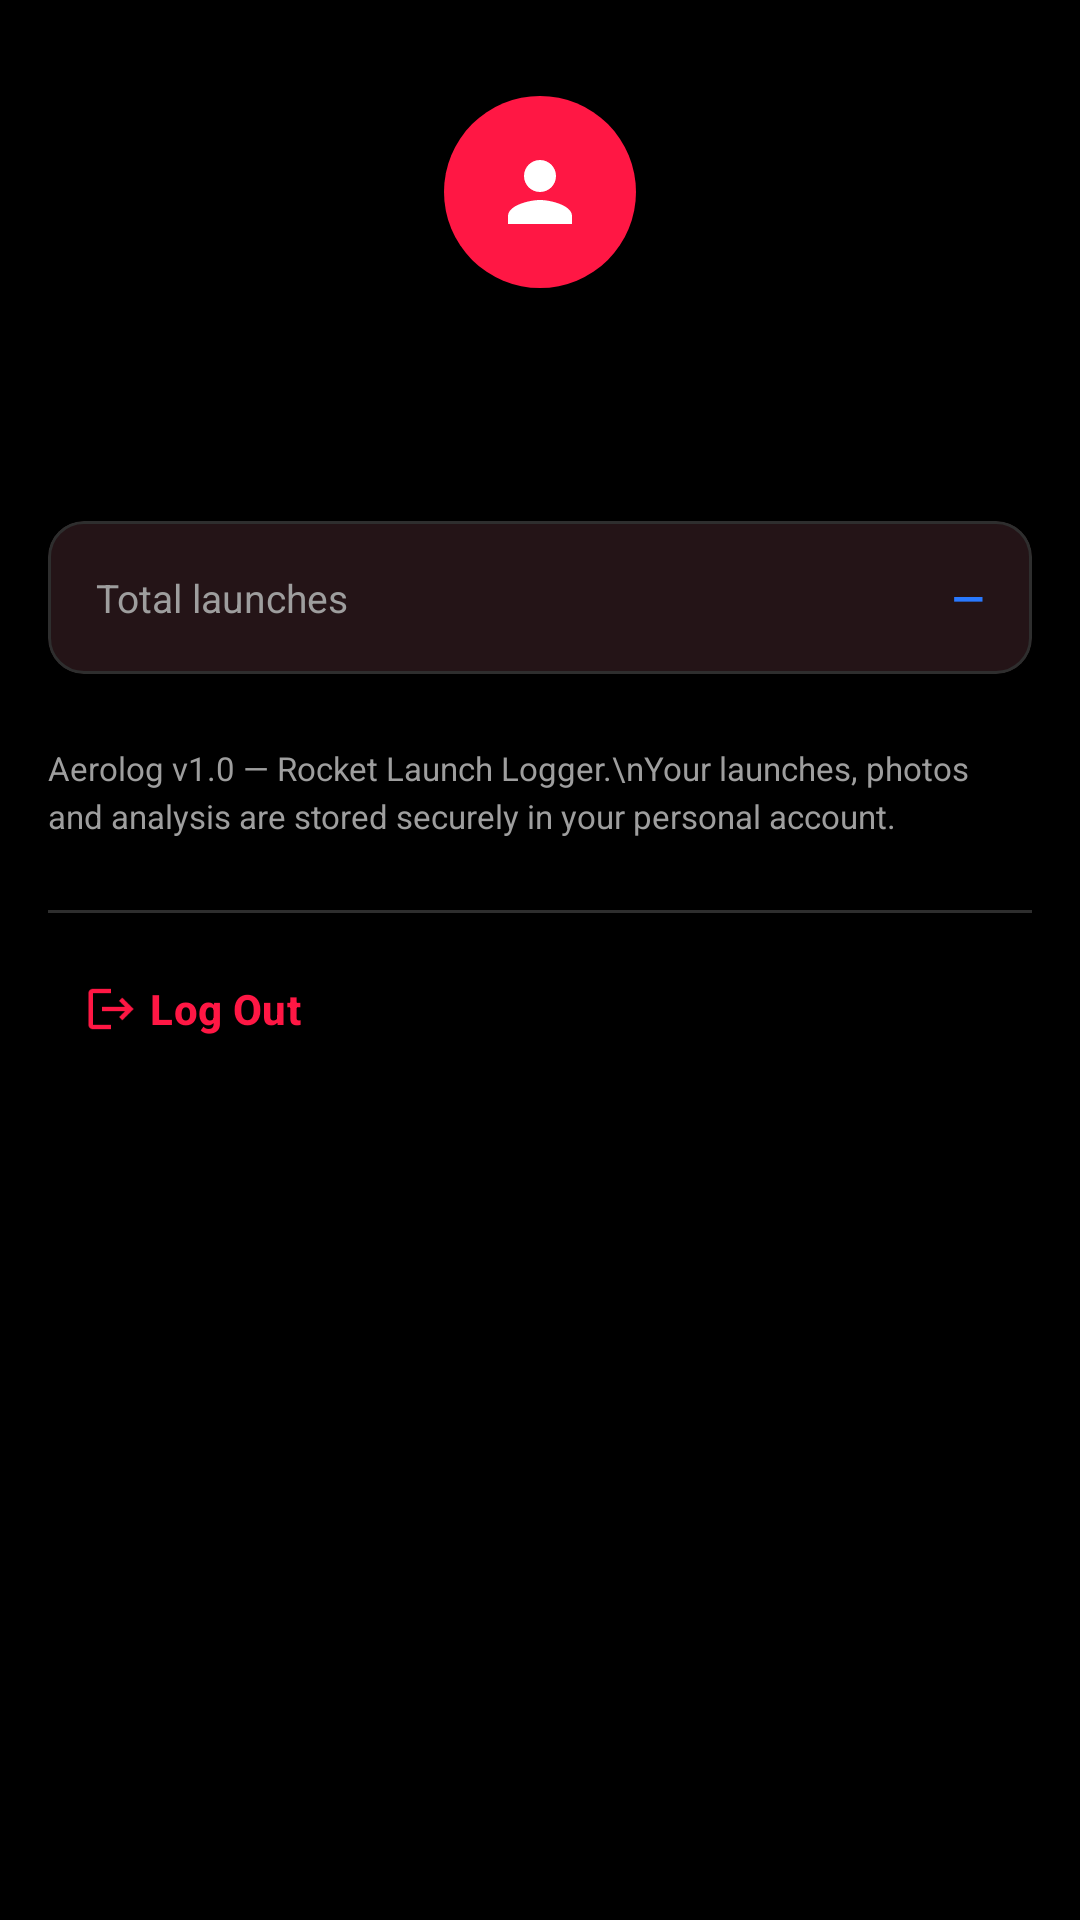

Point at icon controls on the screen. Image size 1080x1920, points as point (x, y).
Profile avatar: point (540, 192)
